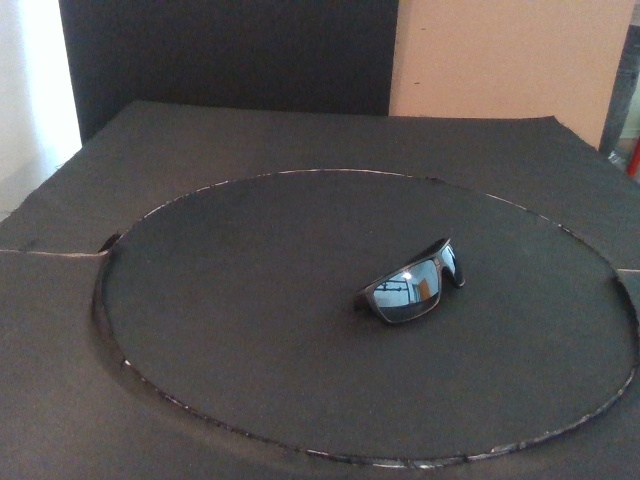glasses: (352, 236, 467, 326)
